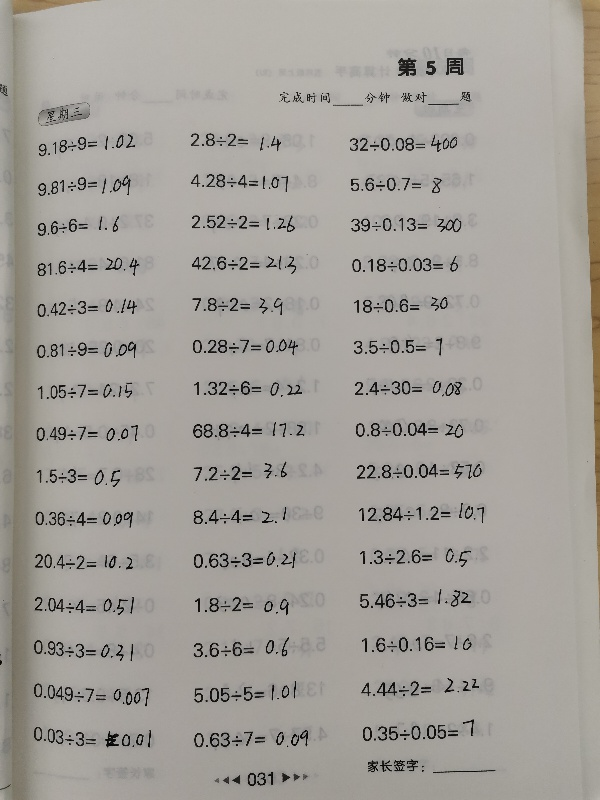equation: (354, 499, 487, 526), (29, 724, 155, 751), (29, 681, 153, 707), (355, 585, 474, 611), (189, 727, 312, 752), (356, 543, 474, 569), (353, 460, 486, 483), (358, 719, 478, 744), (357, 675, 482, 699), (33, 253, 142, 280), (346, 131, 462, 156), (190, 680, 301, 706), (187, 250, 300, 275), (29, 637, 137, 663), (189, 376, 305, 400), (32, 593, 139, 619), (189, 634, 292, 661), (347, 252, 462, 276), (32, 421, 142, 446), (33, 172, 134, 199), (357, 632, 475, 655), (347, 213, 465, 236), (351, 418, 467, 441), (189, 548, 299, 572), (188, 211, 298, 235), (351, 376, 465, 399), (188, 419, 307, 441), (189, 336, 302, 359), (32, 338, 139, 362), (191, 592, 292, 617), (34, 132, 138, 156), (33, 296, 140, 319), (188, 292, 286, 317), (189, 504, 290, 528), (189, 460, 290, 484), (31, 550, 136, 573), (31, 508, 136, 531), (187, 170, 292, 193), (347, 174, 446, 198), (33, 379, 136, 402), (187, 130, 284, 154), (350, 335, 446, 359), (33, 465, 123, 490), (349, 294, 451, 316), (33, 214, 123, 238)
